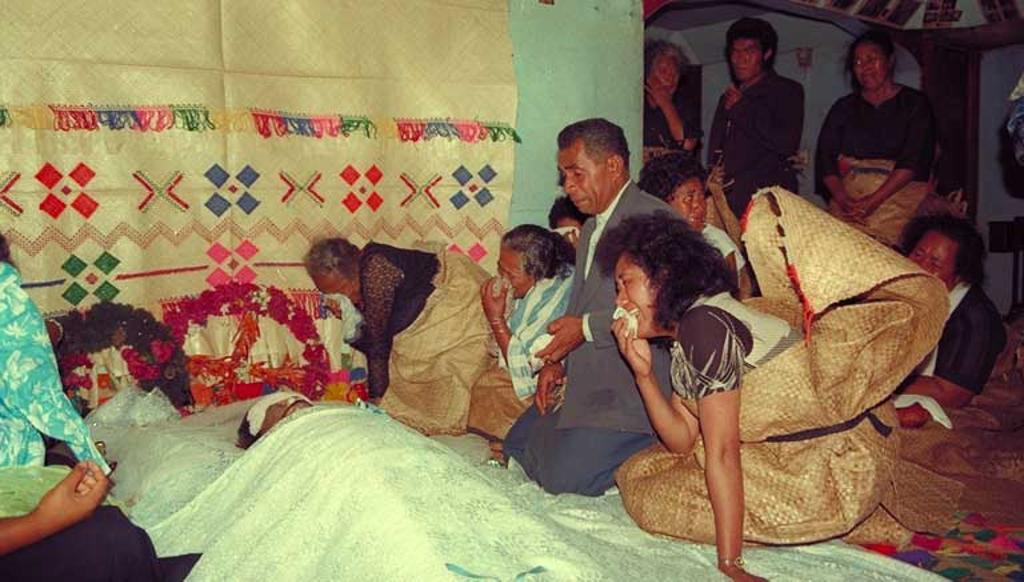face: (617, 259, 668, 335), (559, 145, 612, 214), (907, 238, 954, 297), (255, 391, 312, 435), (663, 183, 705, 233), (498, 251, 534, 300), (646, 58, 678, 109), (854, 46, 888, 88), (319, 274, 361, 303), (733, 38, 761, 78)
